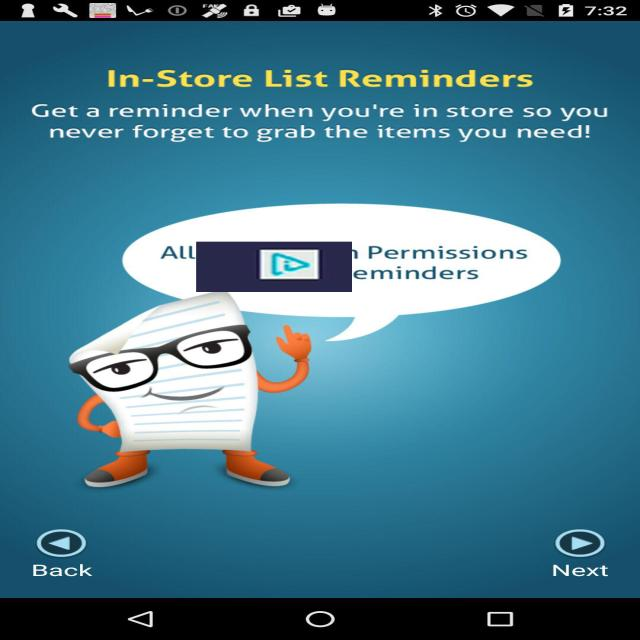sneaking: (196, 242, 352, 292)
